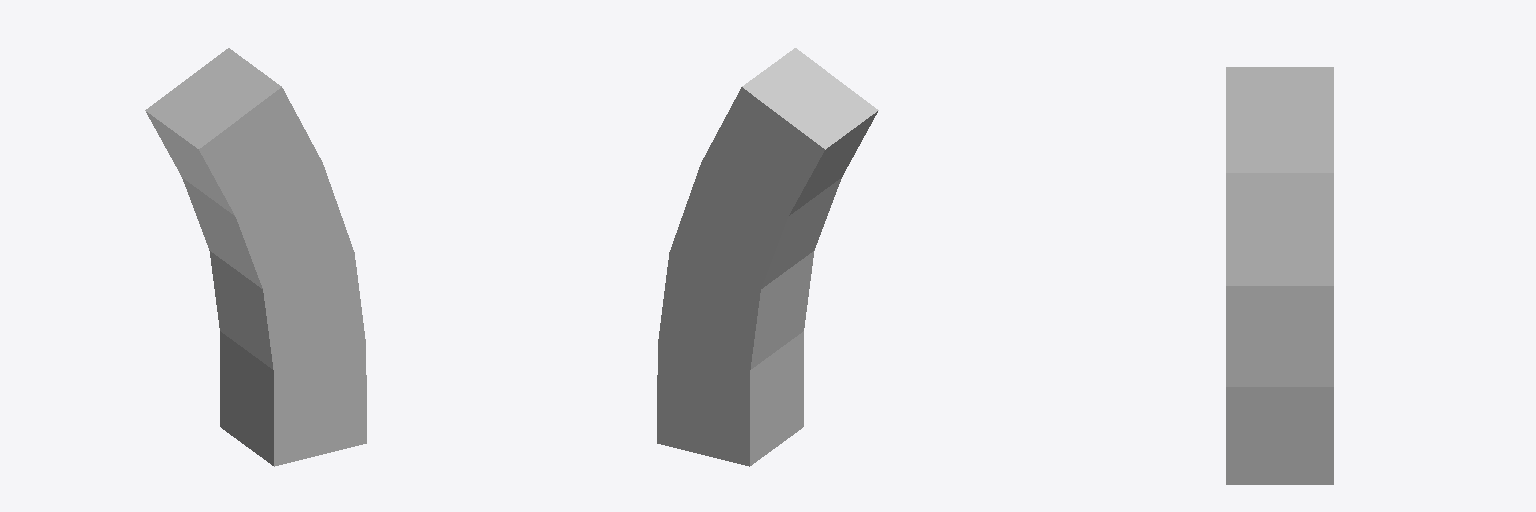
Rendered from Animation_000043.obj.
3 views of the same model, side by side, from view 1: azimuth 30°, elevation 25°; view 2: azimuth 150°, elevation 25°; view 3: azimuth 270°, elevation 25° (orthographic).
Parts seen in each view (by area): view 1: Cube; view 2: Cube; view 3: Cube.
Part boxes in pixels (left/top/right/bottom): Cube: left=145, top=48, right=366, bottom=466; Cube: left=657, top=48, right=878, bottom=466; Cube: left=1226, top=67, right=1333, bottom=484.
Size of the model in its own units: 2.41 by 5.17 by 1.33.